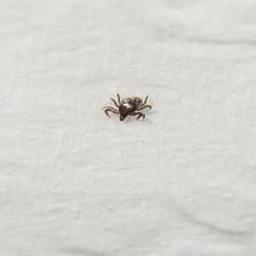Ixodes scapularis: (102, 94, 154, 121)
